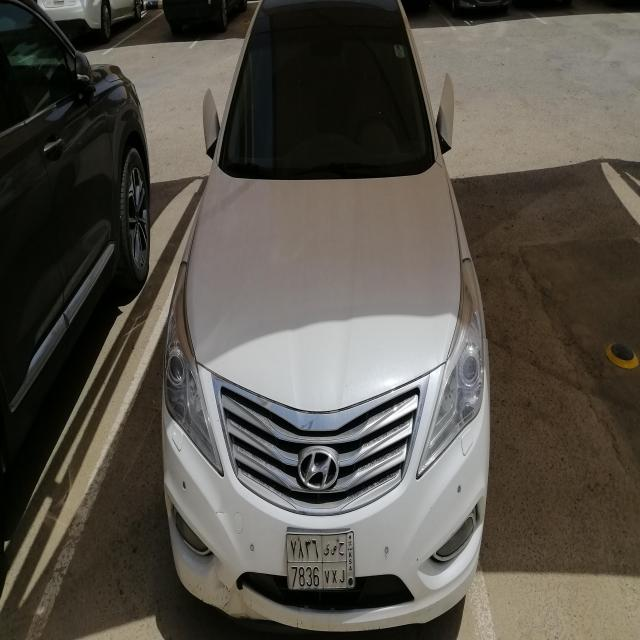license_plate: (286, 528, 357, 594)
